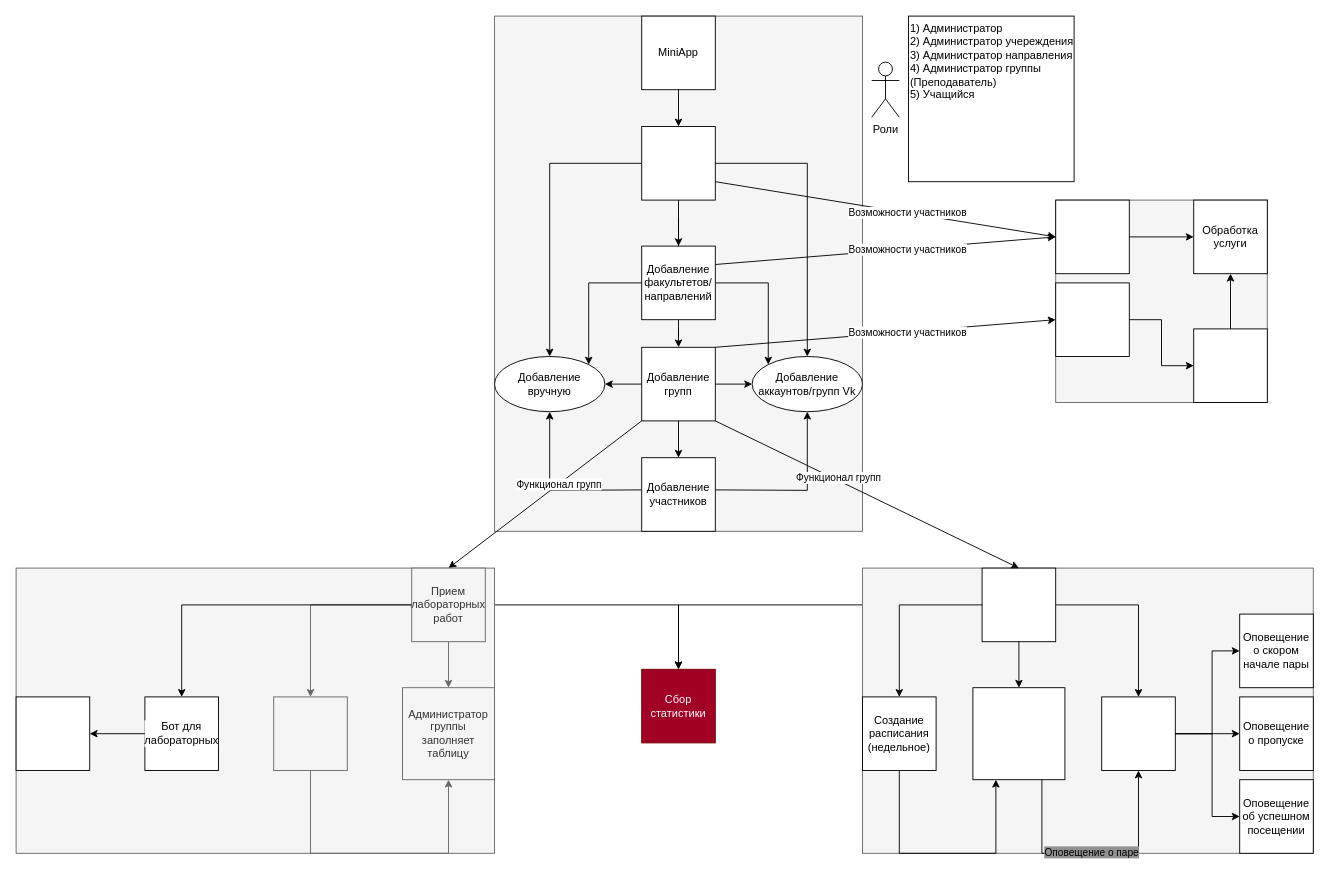
Some shapes in this 1329 by 877 pixel diagram are drawn without their labels. The centre of each missing label's shape, as x and y in pixels:
Администратор: pixel 1092 236
Атоматическое размещение записей в группах, по расписанию: pixel 1018 733
Бот для оповещений: pixel 1138 733
Добавление учереждения: pixel 678 163
Заказать услугу: pixel 1230 365
Контроль посещаемости: pixel 1018 604
Оповещение об обновлении таблицы: pixel 52 733
Создание таблицы лабораторных: pixel 310 733
Учащийся: pixel 1092 319
